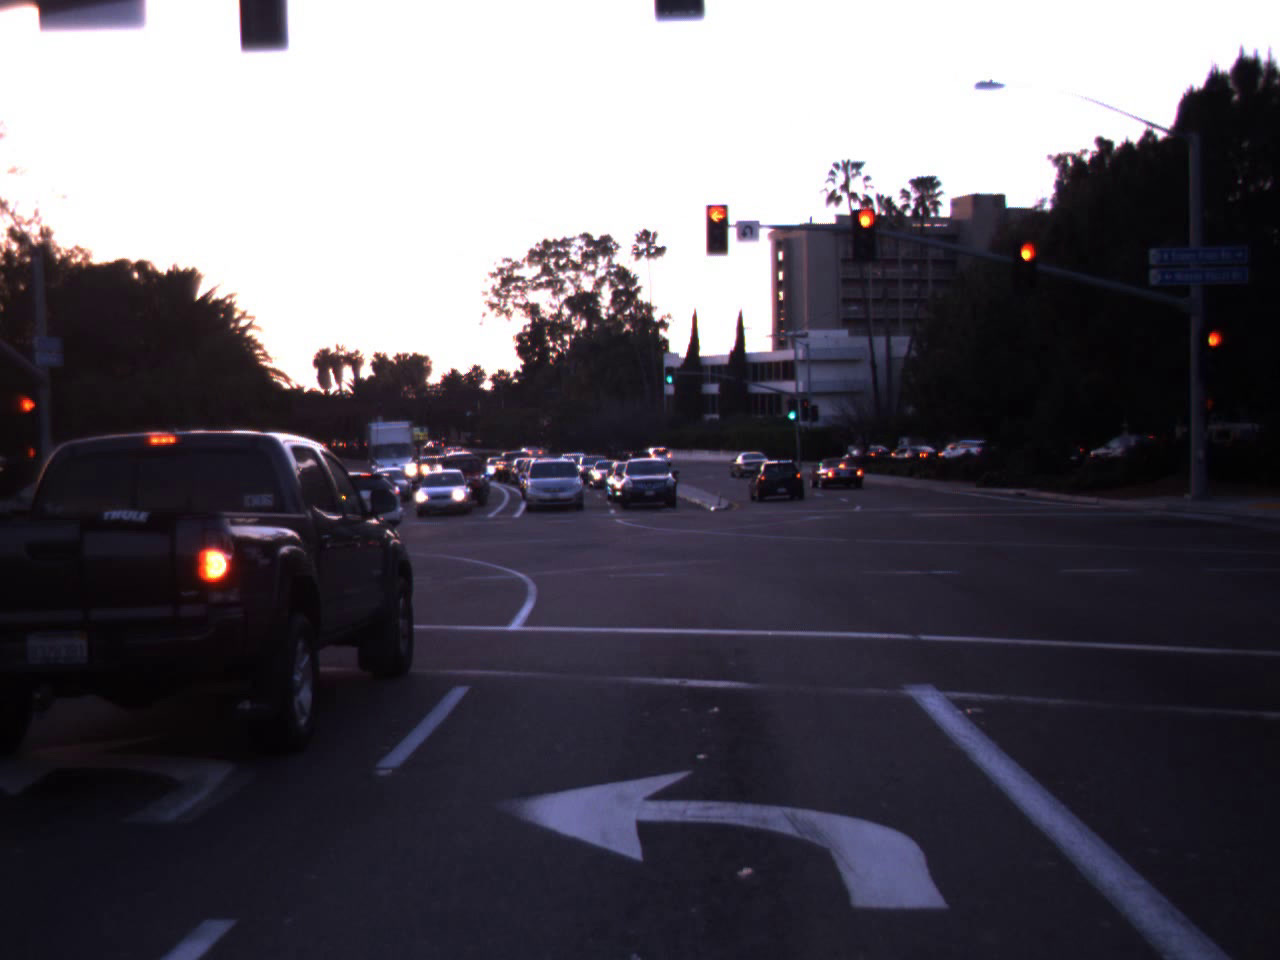go: (781, 387, 802, 422), (664, 359, 676, 384)
stop: (845, 198, 887, 283), (692, 199, 743, 262), (1005, 236, 1047, 308), (1194, 325, 1230, 383), (10, 395, 46, 440)
